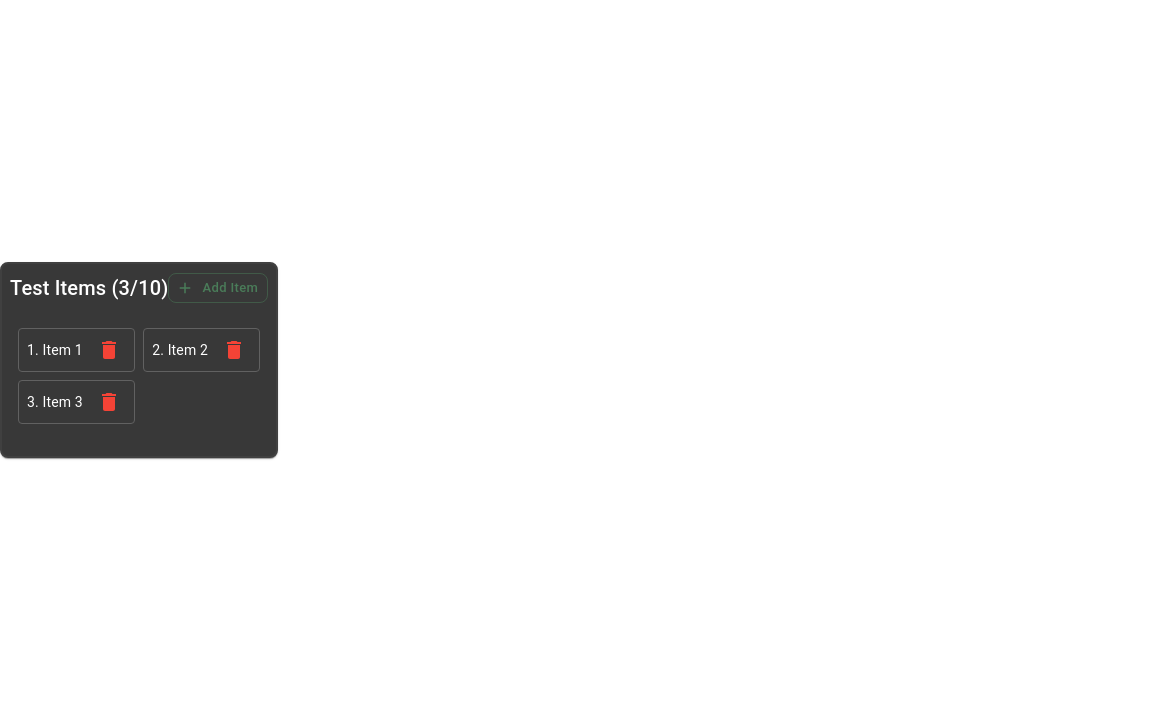
Scenario: ItemList › Accessibility › has proper dialog roles
Click the button "Add Item".
click(218, 288)  # box [168,273,268,303]
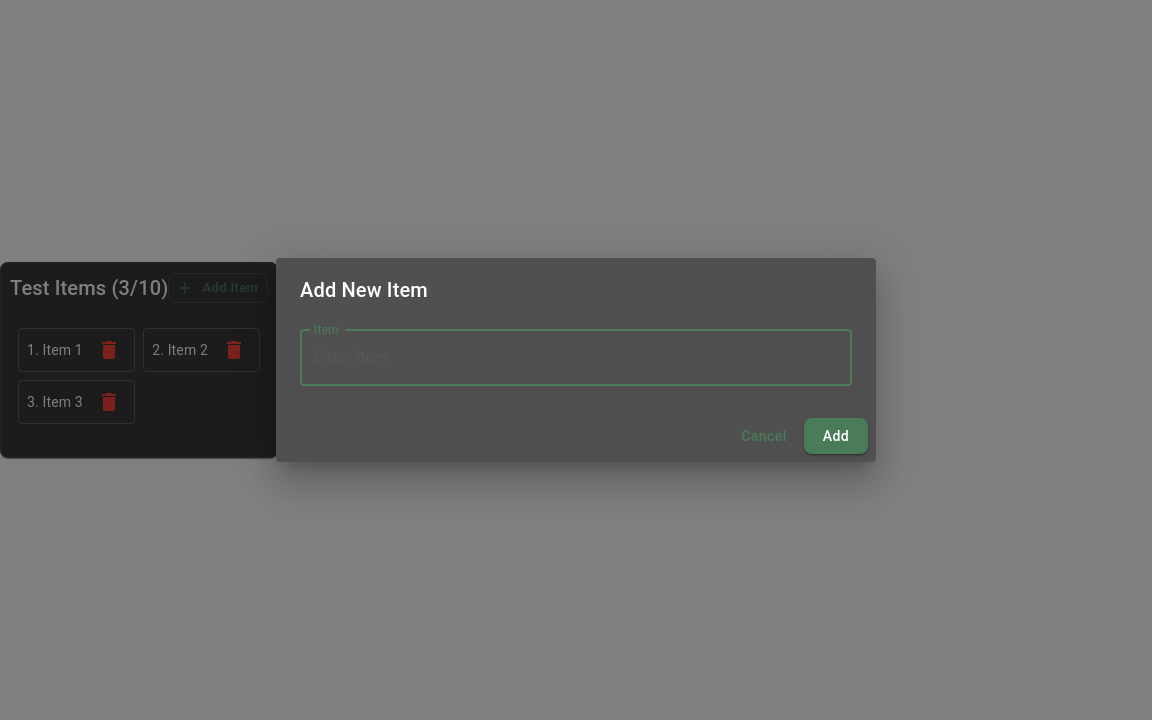
Expected: the dialog is shown, [276,258,876,462]
Expected: the button "Add" is shown, [804,418,868,454]
Expected: the button "Cancel" is shown, [732,418,796,454]
